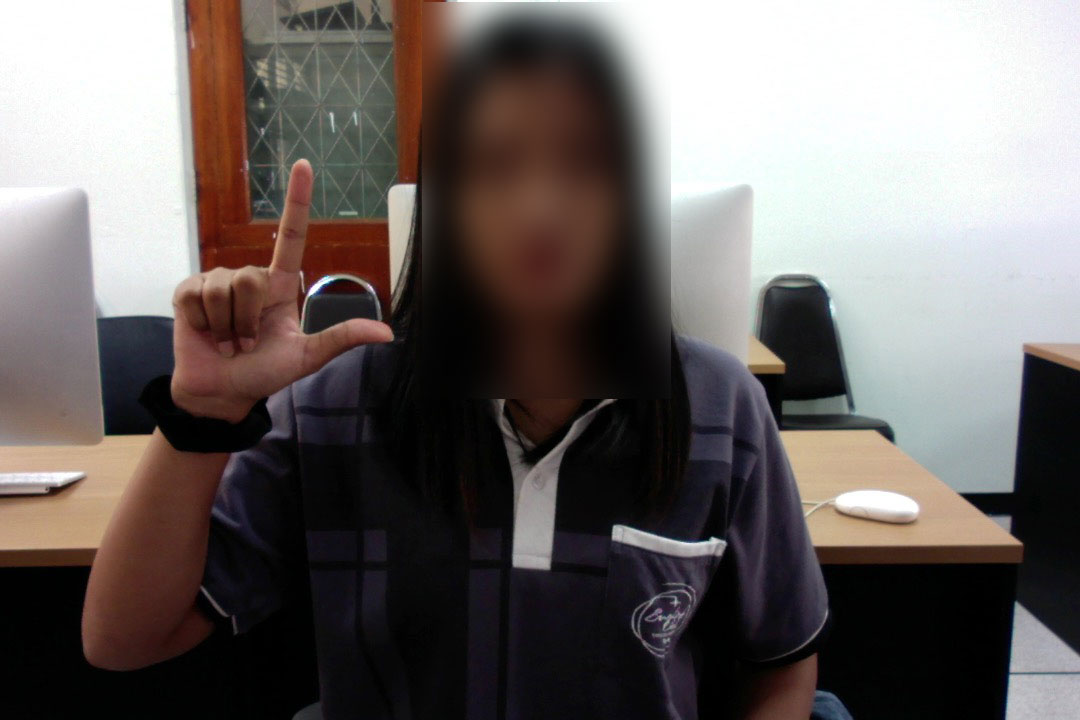lor: (130, 147, 409, 446)
